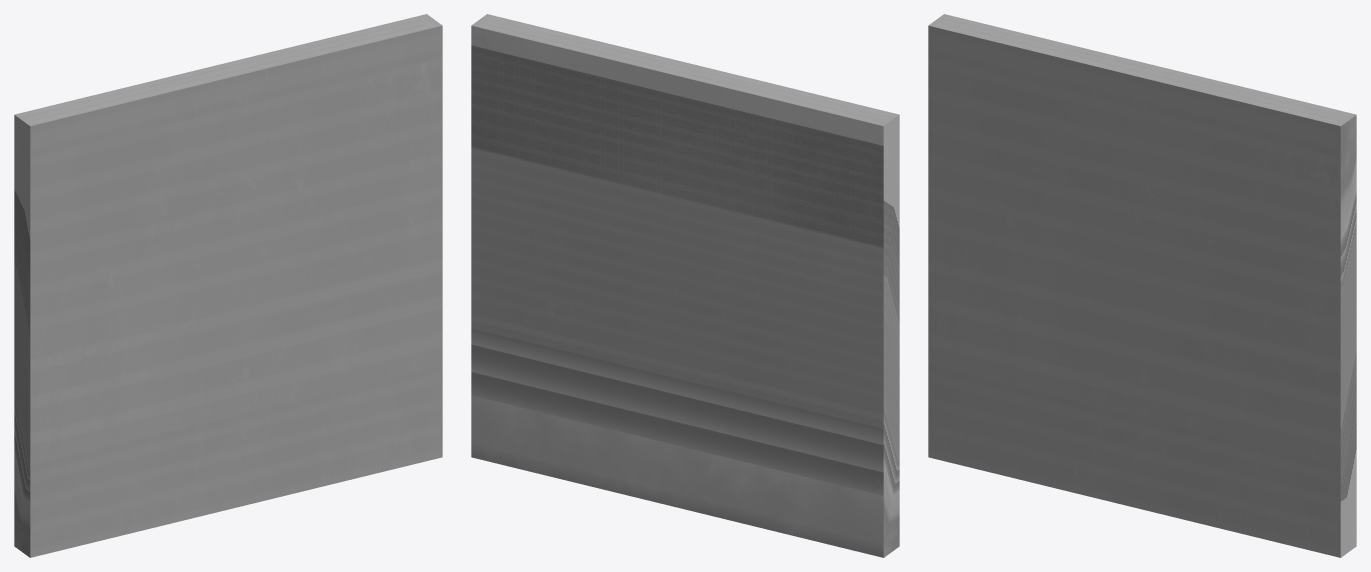
The model's file is plainWall.fbx.
3 renders of one model, left to right at view 1: azimuth 30°, elevation 25°; view 2: azimuth 150°, elevation 25°; view 3: azimuth 330°, elevation 25°, orthographic.
Visible parts, largest first — view 1: greyWall185; view 2: greyWall185; view 3: greyWall185.
Boxes of the visible parts, x1=… form: greyWall185: x1=14, y1=14, x2=442, y2=557; greyWall185: x1=471, y1=14, x2=899, y2=557; greyWall185: x1=928, y1=14, x2=1356, y2=557.
Bounding box in the file's own units: 500 × 500 × 33.33.
